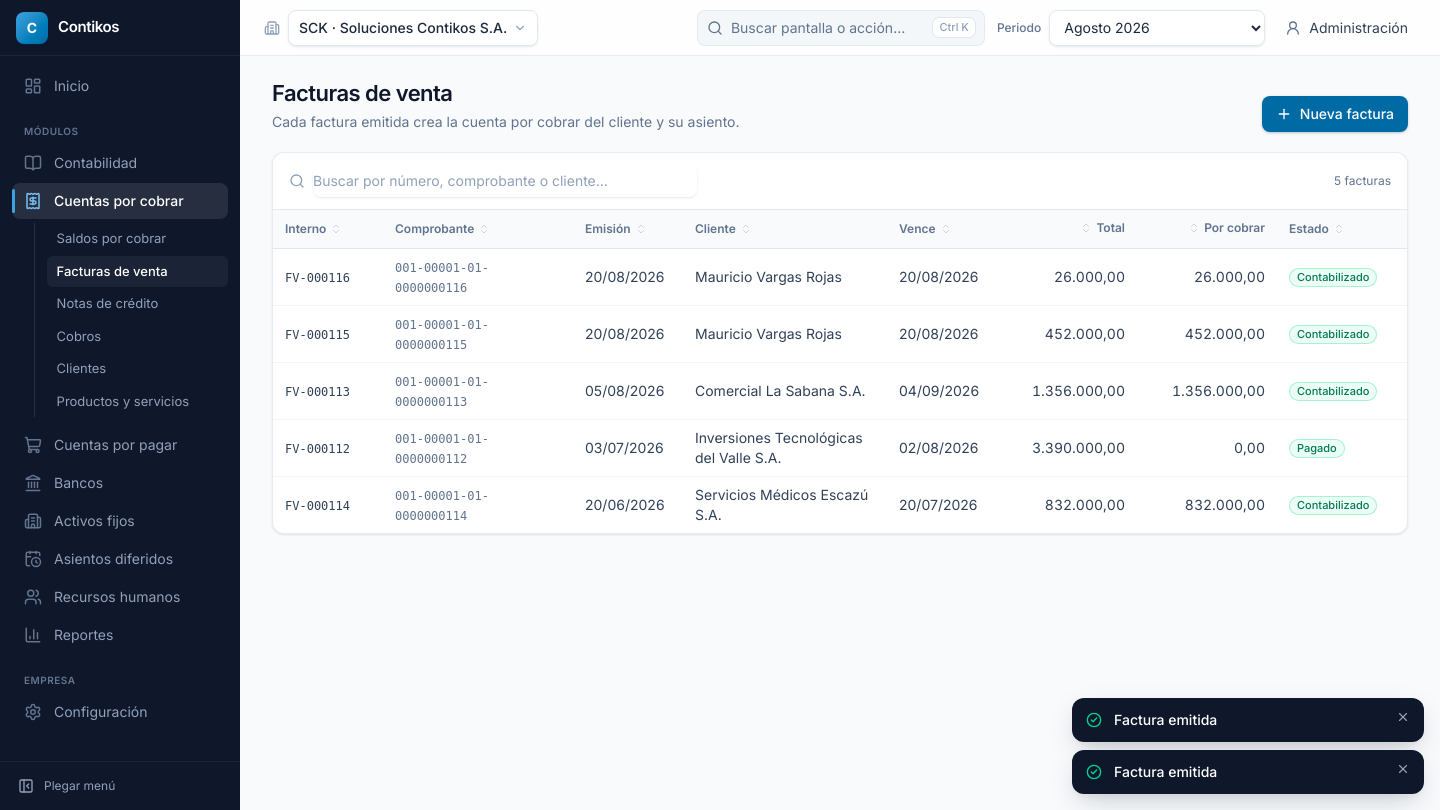
Cuentas por cobrar › el detalle de la factura muestra el asiento que generó
Click the text "FV-000113": (318, 392) [285,384,350,398]
(page scrolled)
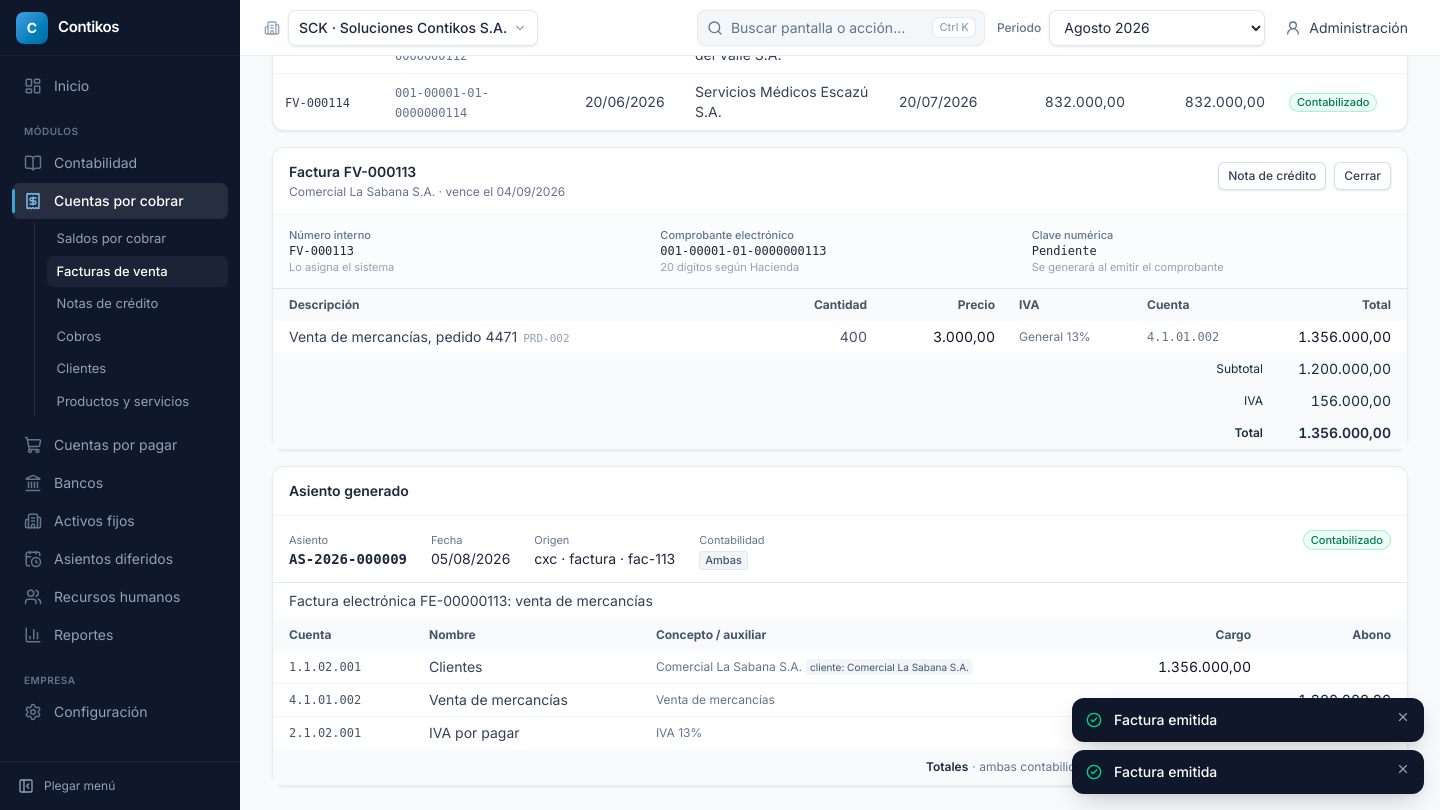
Result: the heading "Asiento generado" is shown at [289,480,409,500]
Result: the text "cxc · factura · fac-113" is shown at [534,548,675,568]
Result: the text "1.1.02.001" is shown at [273,651,417,684]
